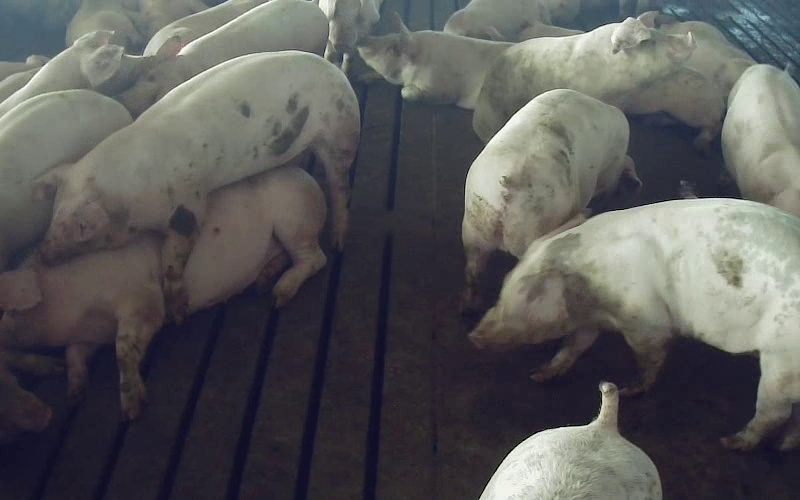pig: (39, 51, 359, 319), (470, 198, 799, 449), (473, 13, 693, 141), (117, 0, 327, 117), (0, 90, 131, 271), (358, 12, 511, 108), (0, 31, 153, 116), (722, 65, 799, 215)
